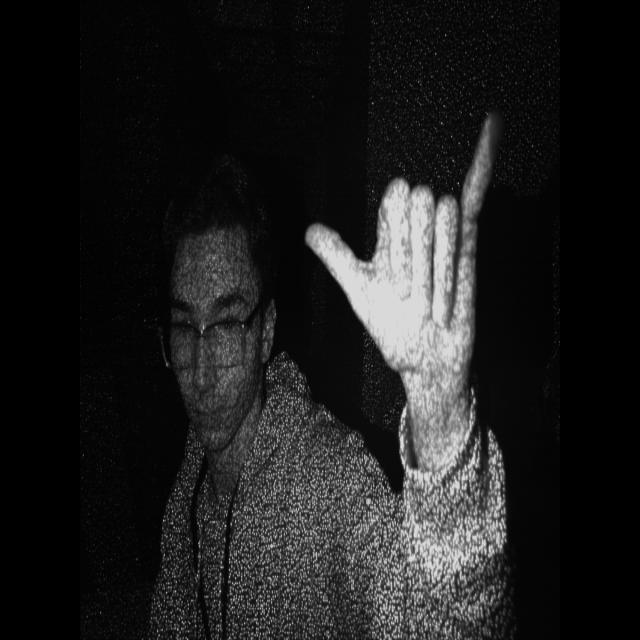Y: (298, 98, 518, 414)
